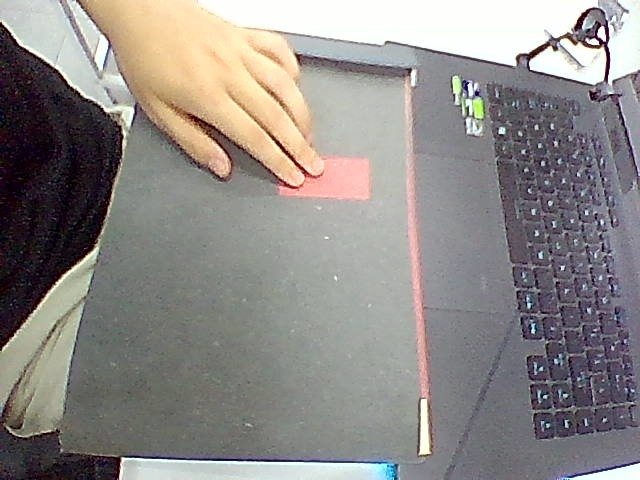card: (279, 157, 370, 200)
